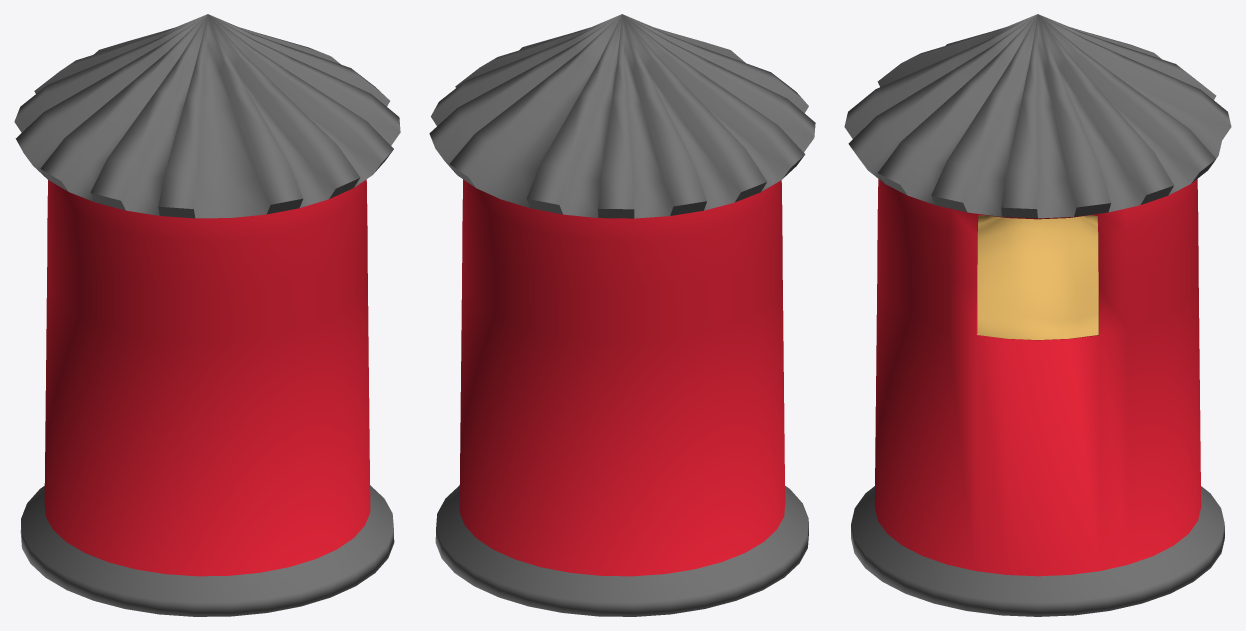
The model's file is Silo.fbx.
3 views of the same model, side by side, from view 1: azimuth 30°, elevation 25°; view 2: azimuth 150°, elevation 25°; view 3: azimuth 270°, elevation 25° (orthographic).
Parts seen in each view (by area): view 1: Sphere, Sphere.001; view 2: Sphere, Sphere.001; view 3: Sphere, Sphere.001, Sphere.002.
Part boxes in pixels (box(x1,y1,x2,y2)): Sphere: box(20, 179, 394, 616); Sphere.001: box(14, 14, 400, 218); Sphere: box(435, 179, 808, 616); Sphere.001: box(429, 14, 815, 218); Sphere: box(851, 179, 1224, 616); Sphere.001: box(844, 14, 1231, 218); Sphere.002: box(977, 215, 1098, 339).
Size of the model in its own units: 549 by 820 by 549.
